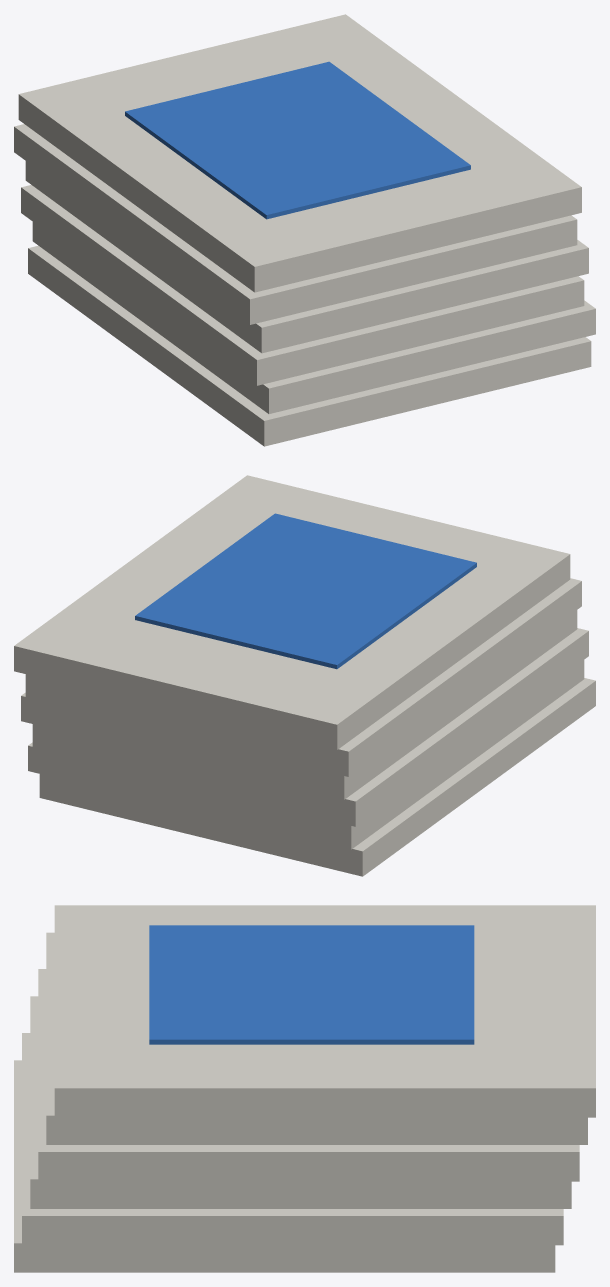
The model's file is prop_autoreply_p0.glb.
The picture shows the model from 3 angles, top to bottom: view 1: azimuth 30°, elevation 25°; view 2: azimuth 150°, elevation 25°; view 3: azimuth 270°, elevation 25°; orthographic projection. The views are drawn at different scales.
Parts seen in each view (by area): view 1: prop_autoreply_p0_mesh; view 2: prop_autoreply_p0_mesh; view 3: prop_autoreply_p0_mesh.
Boxes of the visible parts, x1,y1,x2,y2 form: prop_autoreply_p0_mesh: (14, 14, 595, 446); prop_autoreply_p0_mesh: (14, 475, 595, 876); prop_autoreply_p0_mesh: (14, 905, 595, 1272).
Bounding box in the file's own units: 0.164 × 0.081 × 0.215.
